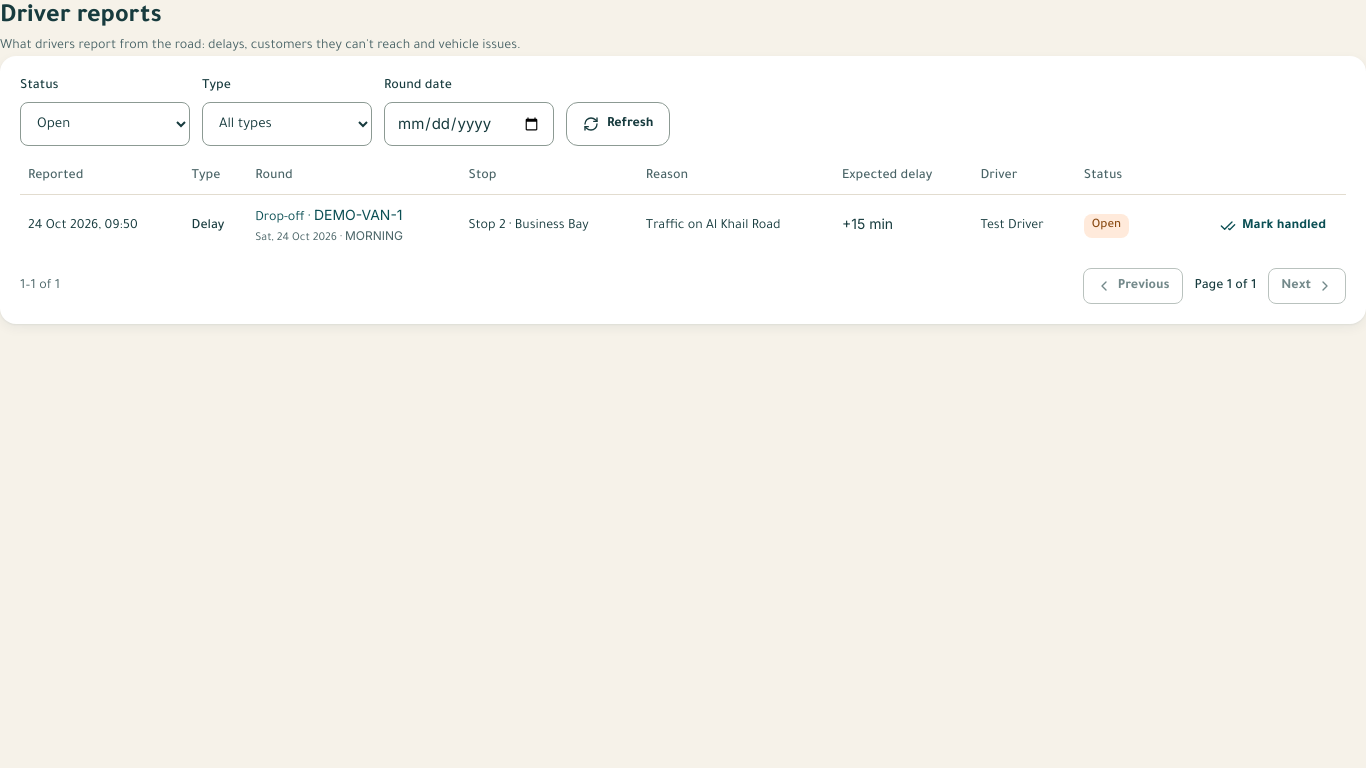
it: A06 driver reports › marks a report handled with a note
The width and height of the screenshot is (1366, 768).
Click the button with aria-label "Mark handled: Delay on DEMO-VAN-1" at (1273, 226), box [1208,208,1338,244]
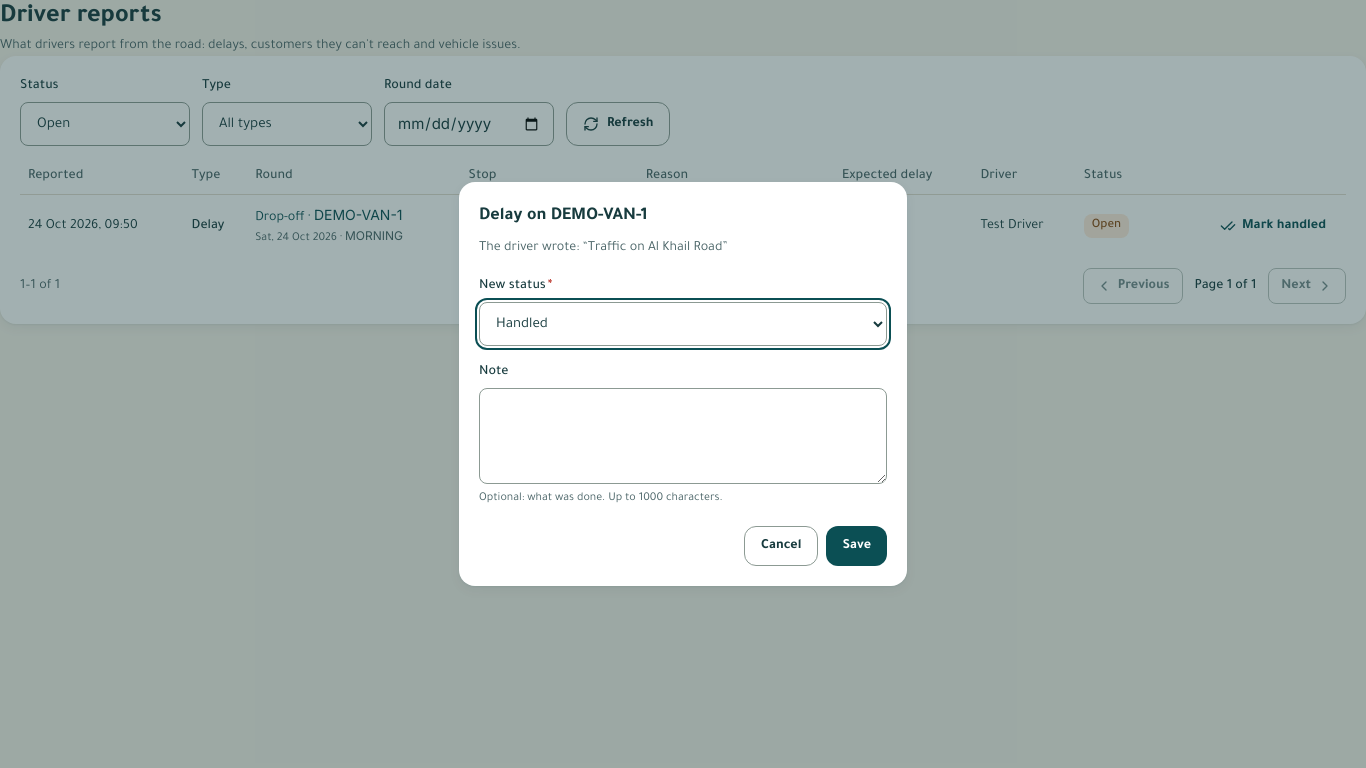
Now the dialog "Delay on DEMO-VAN-1" shows "The driver wrote: “Traffic on Al Khail Road”", box [479,241,727,255]
Now the dropdown labelled "New status*" shows "Handled", box [479,302,887,346]
Type "Called the customer" into the text box labelled "Note" at (683, 436), box [479,388,887,484]
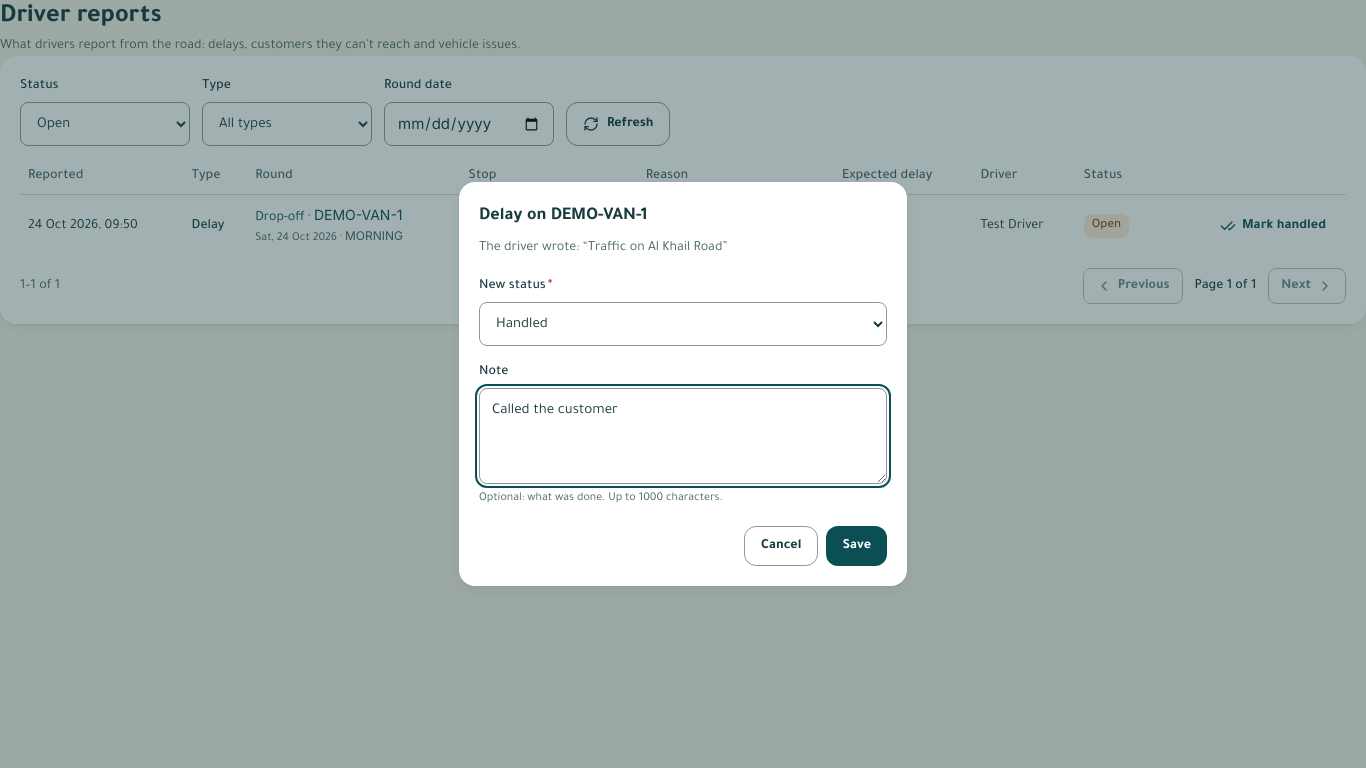
Click the button "Save" at (857, 546), box [826,526,887,566]
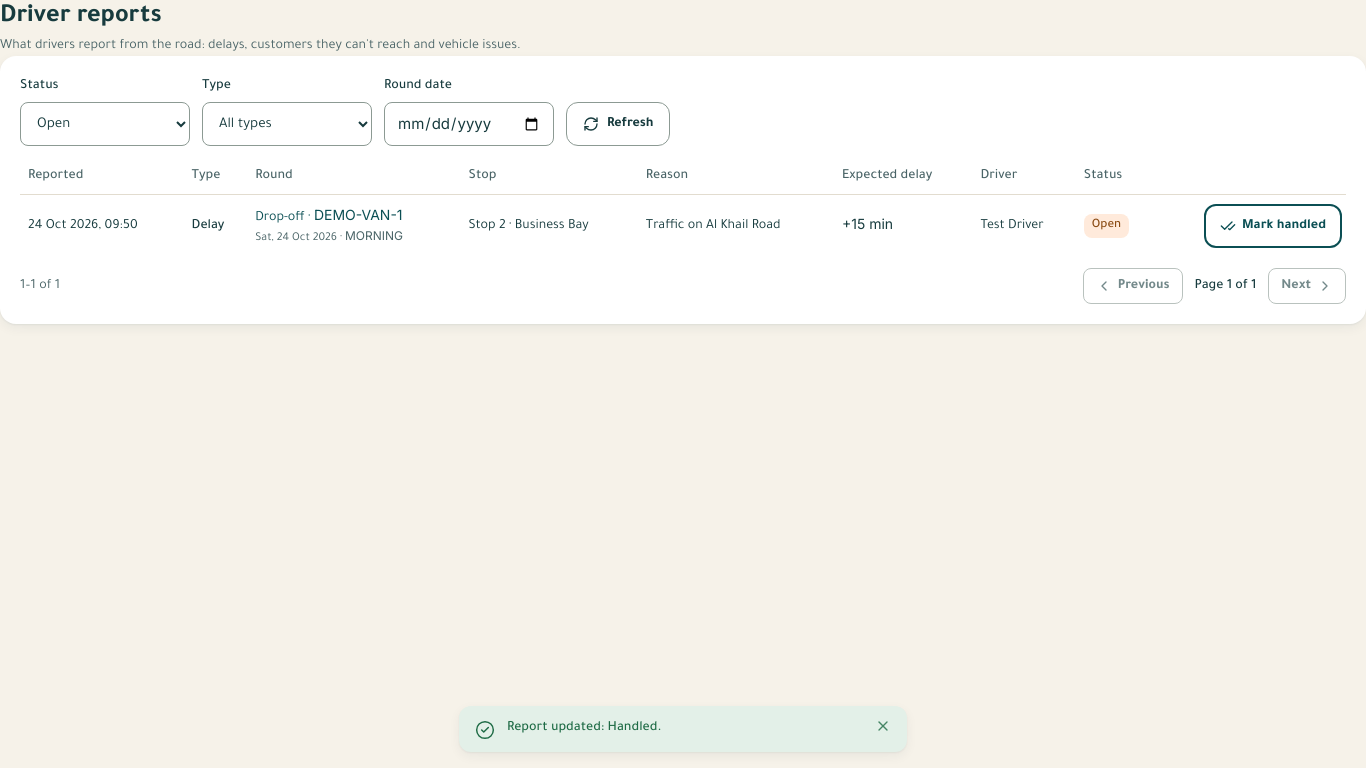
Now the text "Report updated: Handled." is shown, box [507,721,661,735]
